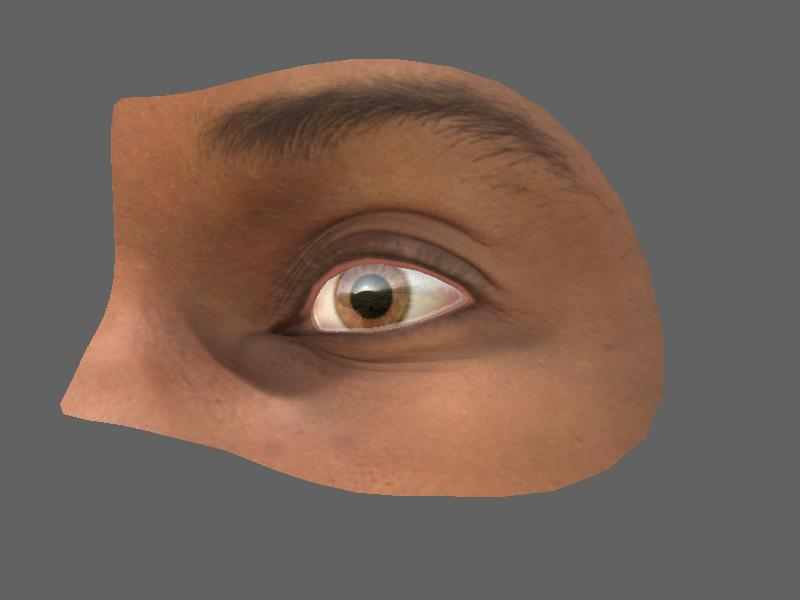iris: (333, 264, 419, 329)
